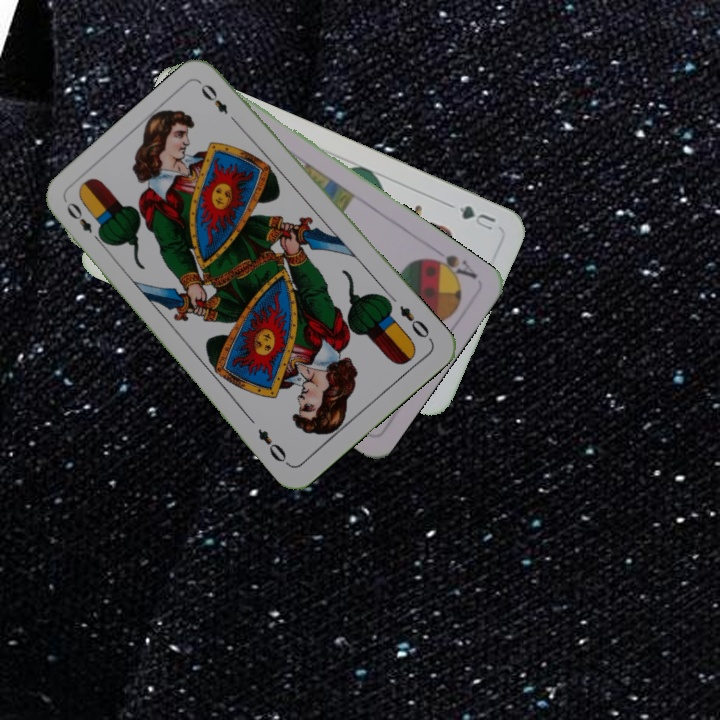EO: (62, 198, 106, 247), (395, 301, 435, 344)
GU: (455, 201, 498, 235)
SA: (423, 250, 480, 285)
